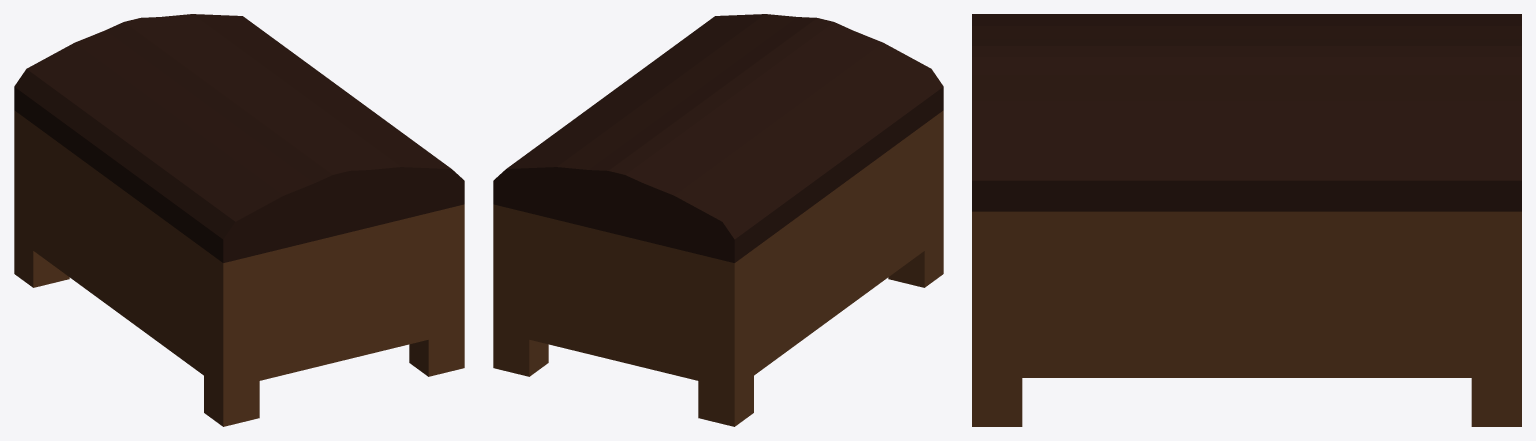
File: chest.fbx
3 views of the same model, side by side, from view 1: azimuth 30°, elevation 25°; view 2: azimuth 150°, elevation 25°; view 3: azimuth 270°, elevation 25° (orthographic). The views are drawn at different scales.
Visible parts, largest first — view 1: Cube.001, Cube; view 2: Cube.001, Cube; view 3: Cube.001, Cube.
Part boxes in pixels (left/top/right/bottom): Cube.001: left=14, top=14, right=464, bottom=262; Cube: left=14, top=110, right=464, bottom=426; Cube.001: left=493, top=14, right=943, bottom=262; Cube: left=493, top=110, right=943, bottom=426; Cube.001: left=972, top=14, right=1521, bottom=211; Cube: left=972, top=211, right=1521, bottom=426.
Bounding box in the file's own units: 200 × 178 × 300.
